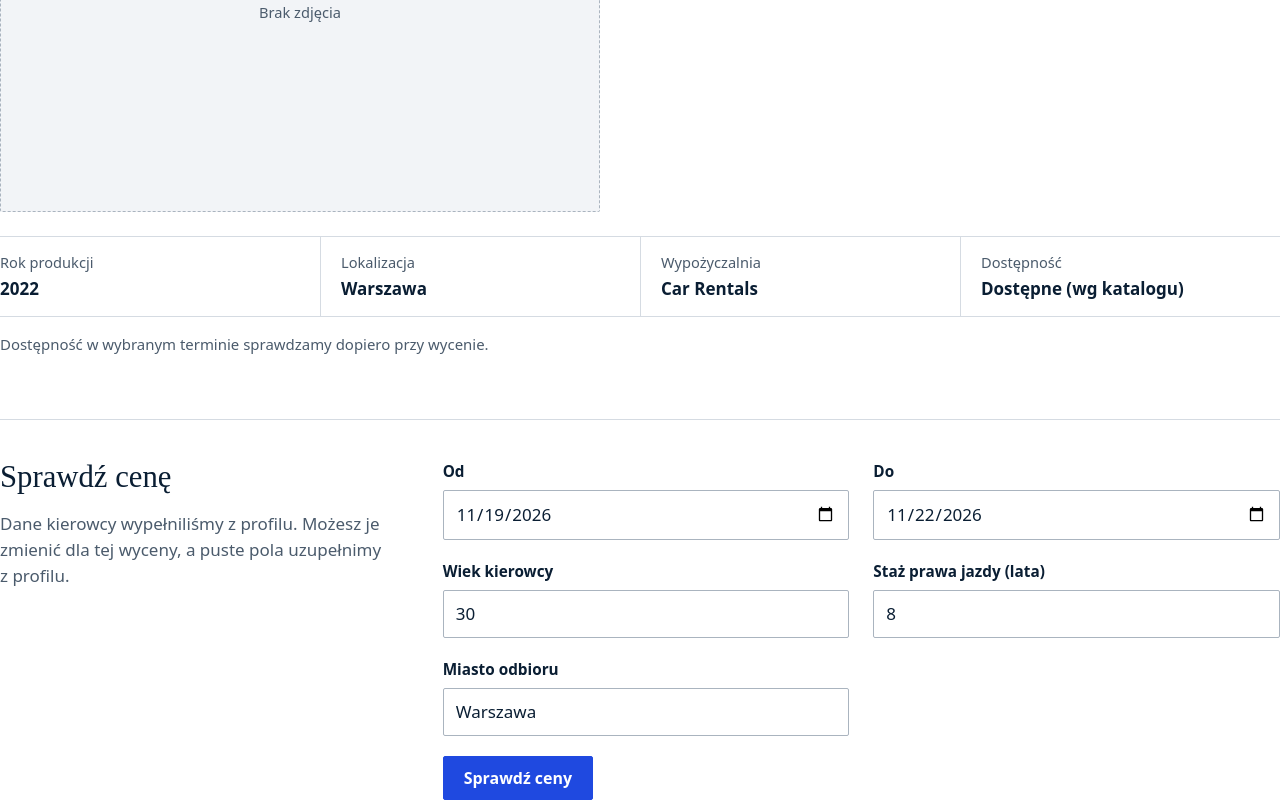
Wynajem z oferty › wypełnia dane kierowcy z profilu, wysyła wniosek i przechodzi do statusu
(page scrolled)
Click the button "Sprawdź ceny": (518, 778) [443, 756, 593, 799]
(page scrolled)
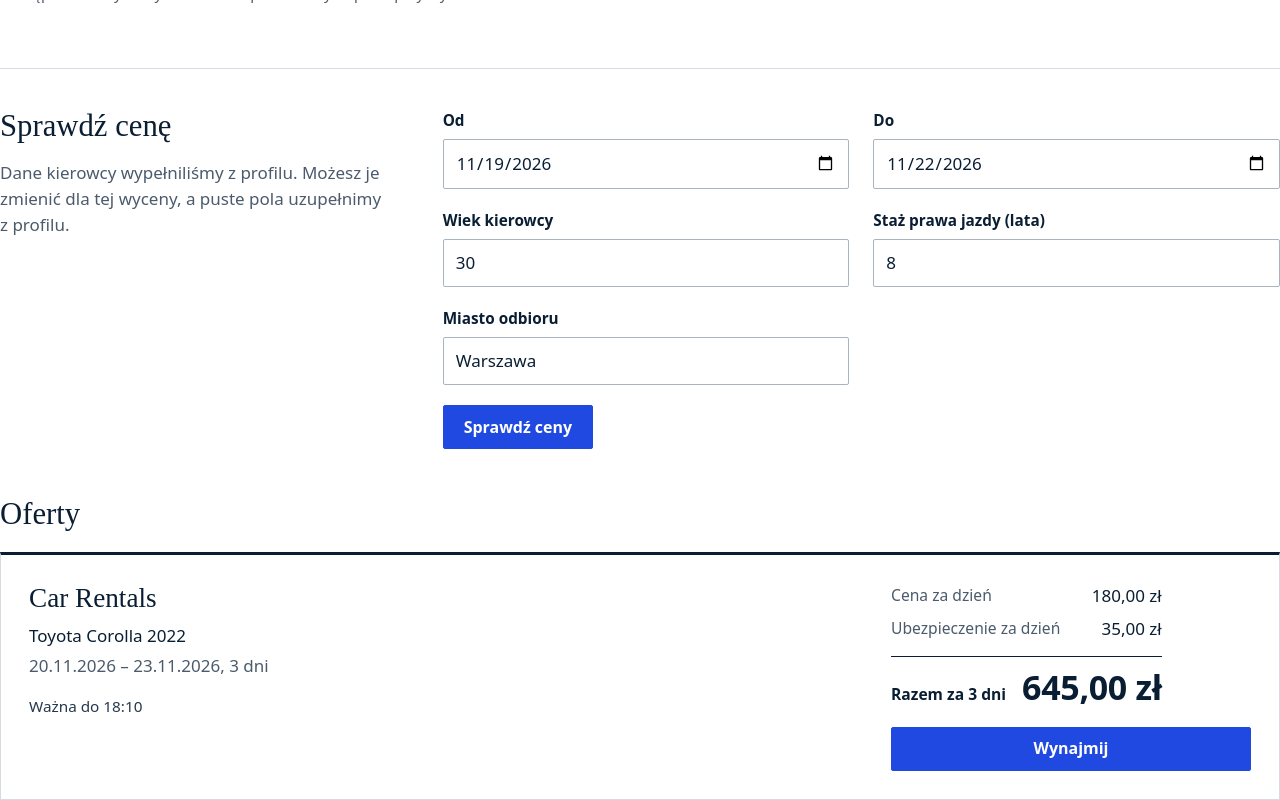
Click the button with aria-label "Wynajmij: Car Rentals": (1071, 748) [891, 726, 1251, 770]
(page scrolled)
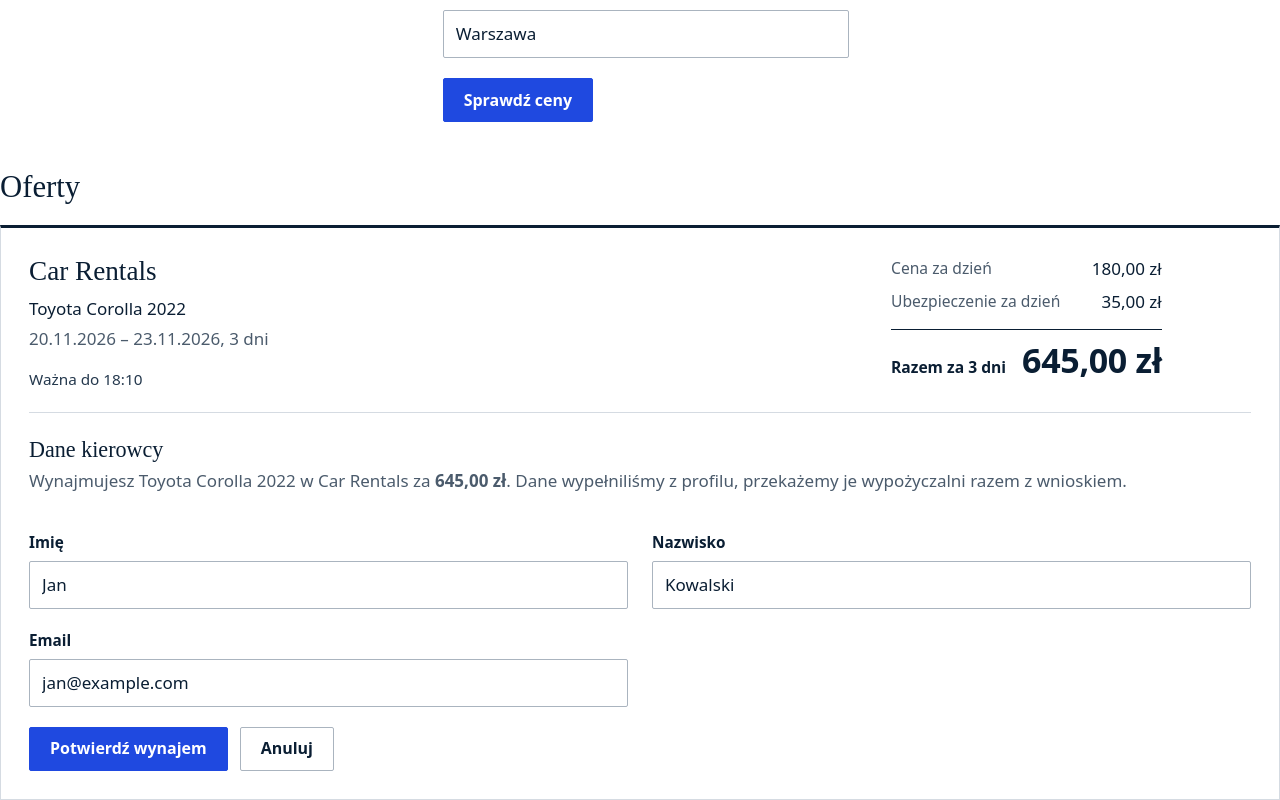
Expected: the field labelled "Imię" holds "Jan", [29, 561, 628, 609]
Expected: the field labelled "Nazwisko" holds "Kowalski", [652, 561, 1251, 609]
Expected: the field labelled "Email" holds "jan@example.com", [29, 659, 628, 707]
Click the button "Potwierdź wynajem": (128, 749) [29, 727, 228, 771]
(page scrolled)
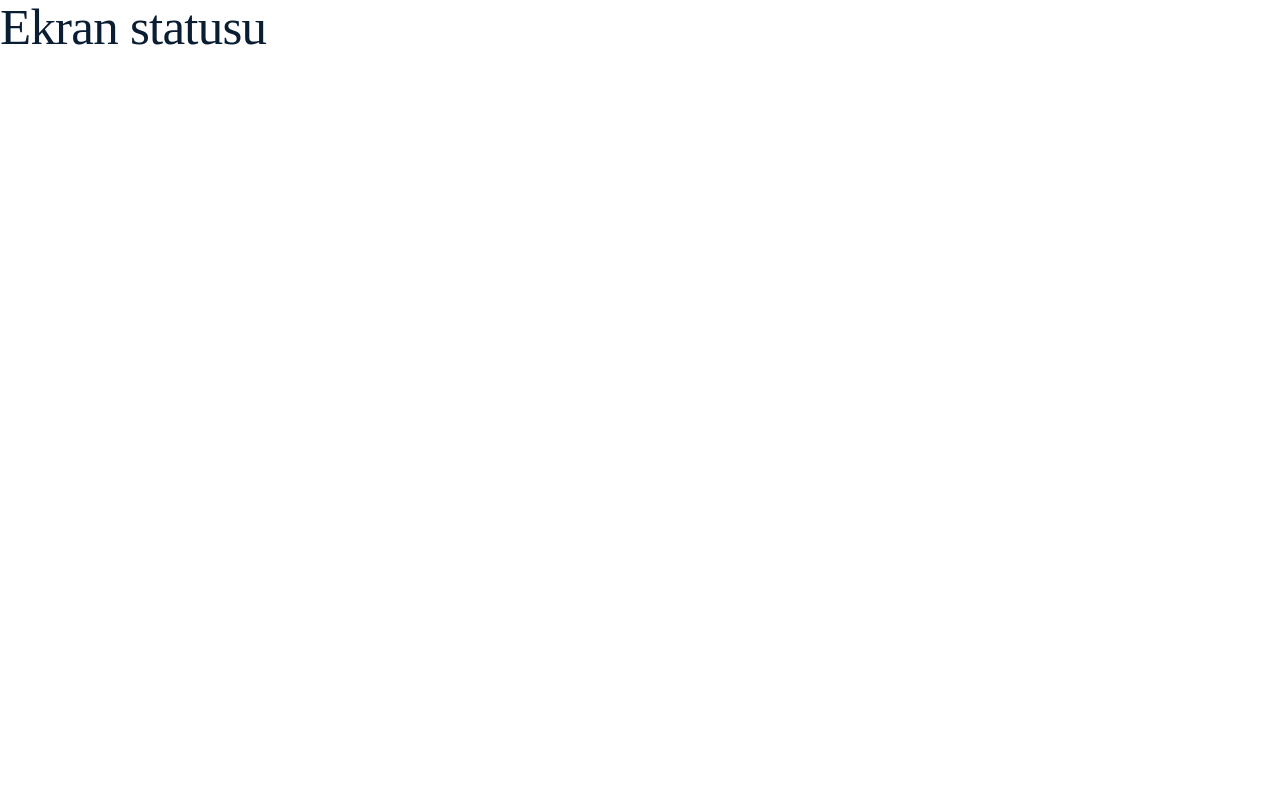
Expected: the heading "Ekran statusu" is shown, [0, 0, 266, 55]
